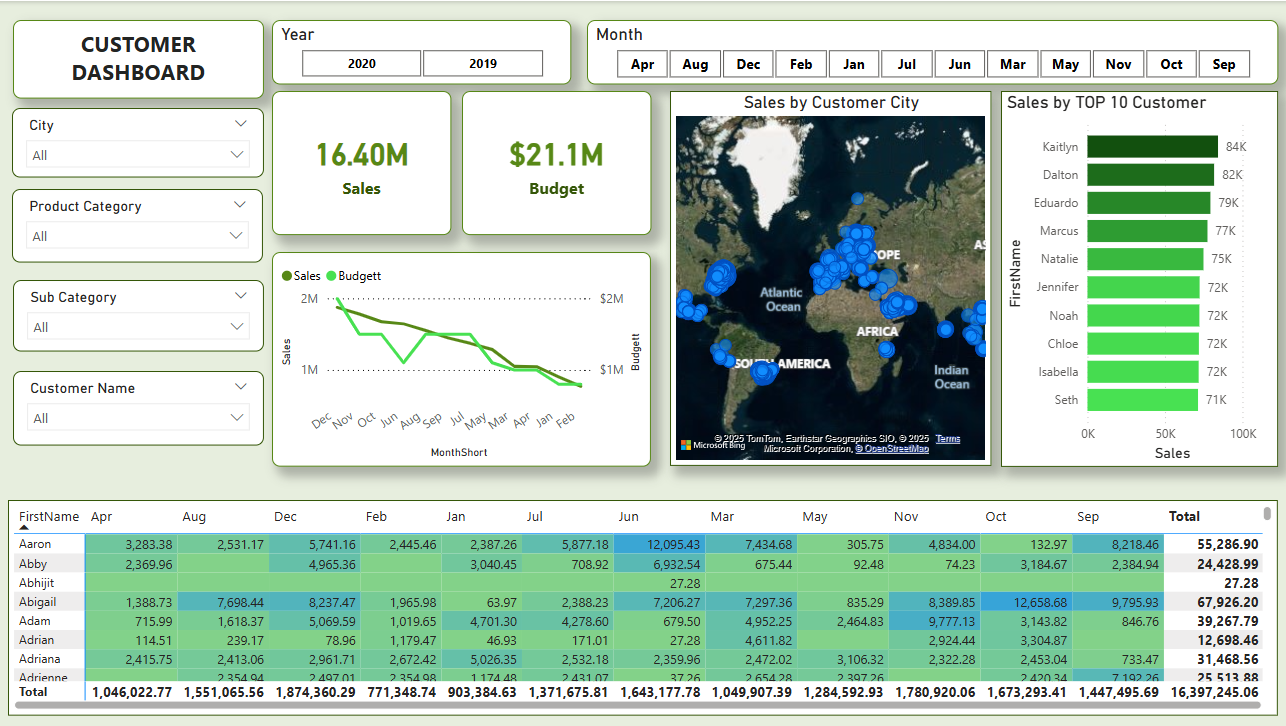

The page's visual inventory and layout, read from the dashboard file:
{"tool":"powerbi","page":{"name":"Customers","canvas":[1280,720],"ordinal":2},"visuals":[{"type":"textbox","box":[14.9,18.9,249.1,78.4],"z":0},{"type":"slicer","title":"Year","fields":{"Values":["DimDate.Year"]},"box":[271.9,18.9,296.7,63.5],"z":1000},{"type":"slicer","title":"Month","fields":{"Values":["DimDate.MonthShort"]},"box":[584.4,18.9,685.6,63.5],"z":2000},{"type":"lineChart","title":"Sales and Budget by Month","fields":{"Category":["Dimcalender.MonthShort"],"Y":["FactInternetSales.Sales"],"Y2":["FactBudget.Budgett"]},"box":[271.9,249.1,376.1,213.3],"z":3000},{"type":"map","title":"Sales by Customer City","fields":{"Category":["DimCustomers.CustomerKey"],"Size":["FactInternetSales.Sales"]},"box":[666.8,89.3,318.5,372.1],"z":4000},{"type":"barChart","title":"Sales by TOP 10 Customer","fields":{"Category":["DimCustomers.FirstName"],"Y":["FactInternetSales.Sales"]},"box":[995.2,89.3,274.9,373.1],"z":5000},{"type":"slicer","fields":{"Values":["DimCustomers.CustomerCity"]},"box":[13.9,106.2,250,69.5],"z":6000},{"type":"slicer","fields":{"Values":["DimProducts.ProductCategory"]},"box":[13.9,186.5,249.1,73.4],"z":7000},{"type":"slicer","fields":{"Values":["DimProducts.SubCategory"]},"box":[14.9,276.8,249.1,71.4],"z":8000},{"type":"slicer","fields":{"Values":["DimCustomers.FirstName"]},"box":[14.9,367.1,249.1,74.4],"z":9000},{"type":"card","fields":{"Values":["FactInternetSales.Sales"]},"box":[271.9,89.3,177.6,142.9],"z":10000},{"type":"card","fields":{"Values":["FactBudget.Budgett"]},"box":[460.4,89.3,187.5,142.9],"z":11000},{"type":"pivotTable","fields":{"Rows":["DimCustomers.FirstName"],"Columns":["Dimcalender.MonthShort"],"Values":["FactInternetSales.Sales"]},"box":[9.9,495.1,1260.2,214.3],"z":12000}]}

Visuals, with their boxes in screenshot pixels (x1, y1, x2, y2), scaled from the page's 1280x720 canvas onto the 1286x726 screenshot:
textbox: (x1=15, y1=19, x2=265, y2=98)
"Year" slicer: (x1=273, y1=19, x2=571, y2=83)
"Month" slicer: (x1=587, y1=19, x2=1276, y2=83)
"Sales and Budget by Month" lineChart: (x1=273, y1=251, x2=651, y2=466)
"Sales by Customer City" map: (x1=670, y1=90, x2=990, y2=465)
"Sales by TOP 10 Customer" barChart: (x1=1000, y1=90, x2=1276, y2=466)
slicer - DimCustomers.CustomerCity: (x1=14, y1=107, x2=265, y2=177)
slicer - DimProducts.ProductCategory: (x1=14, y1=188, x2=264, y2=262)
slicer - DimProducts.SubCategory: (x1=15, y1=279, x2=265, y2=351)
slicer - DimCustomers.FirstName: (x1=15, y1=370, x2=265, y2=445)
card - FactInternetSales.Sales: (x1=273, y1=90, x2=452, y2=234)
card - FactBudget.Budgett: (x1=463, y1=90, x2=651, y2=234)
pivotTable - DimCustomers.FirstName x Dimcalender.MonthShort: (x1=10, y1=499, x2=1276, y2=715)
